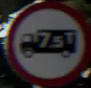Heavy Vehicles: (6, 3, 83, 81)
